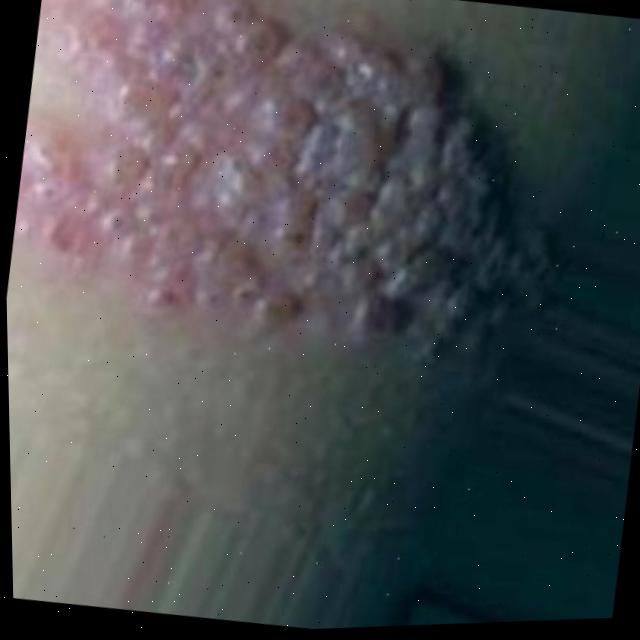Shingles: (0, 0, 543, 389)
